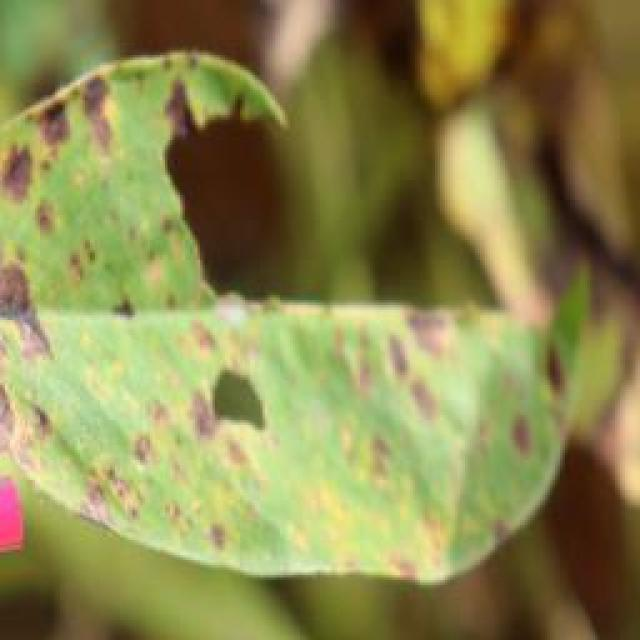Yellowish: (0, 42, 572, 589)
